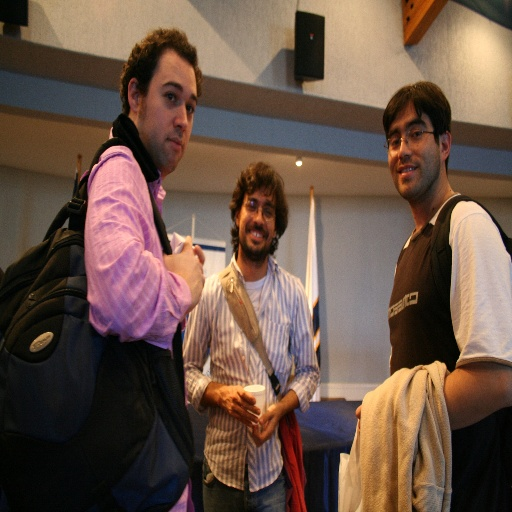hand: (169, 237, 210, 290), (218, 383, 261, 429), (250, 402, 285, 450), (193, 240, 205, 267), (354, 405, 362, 436)
